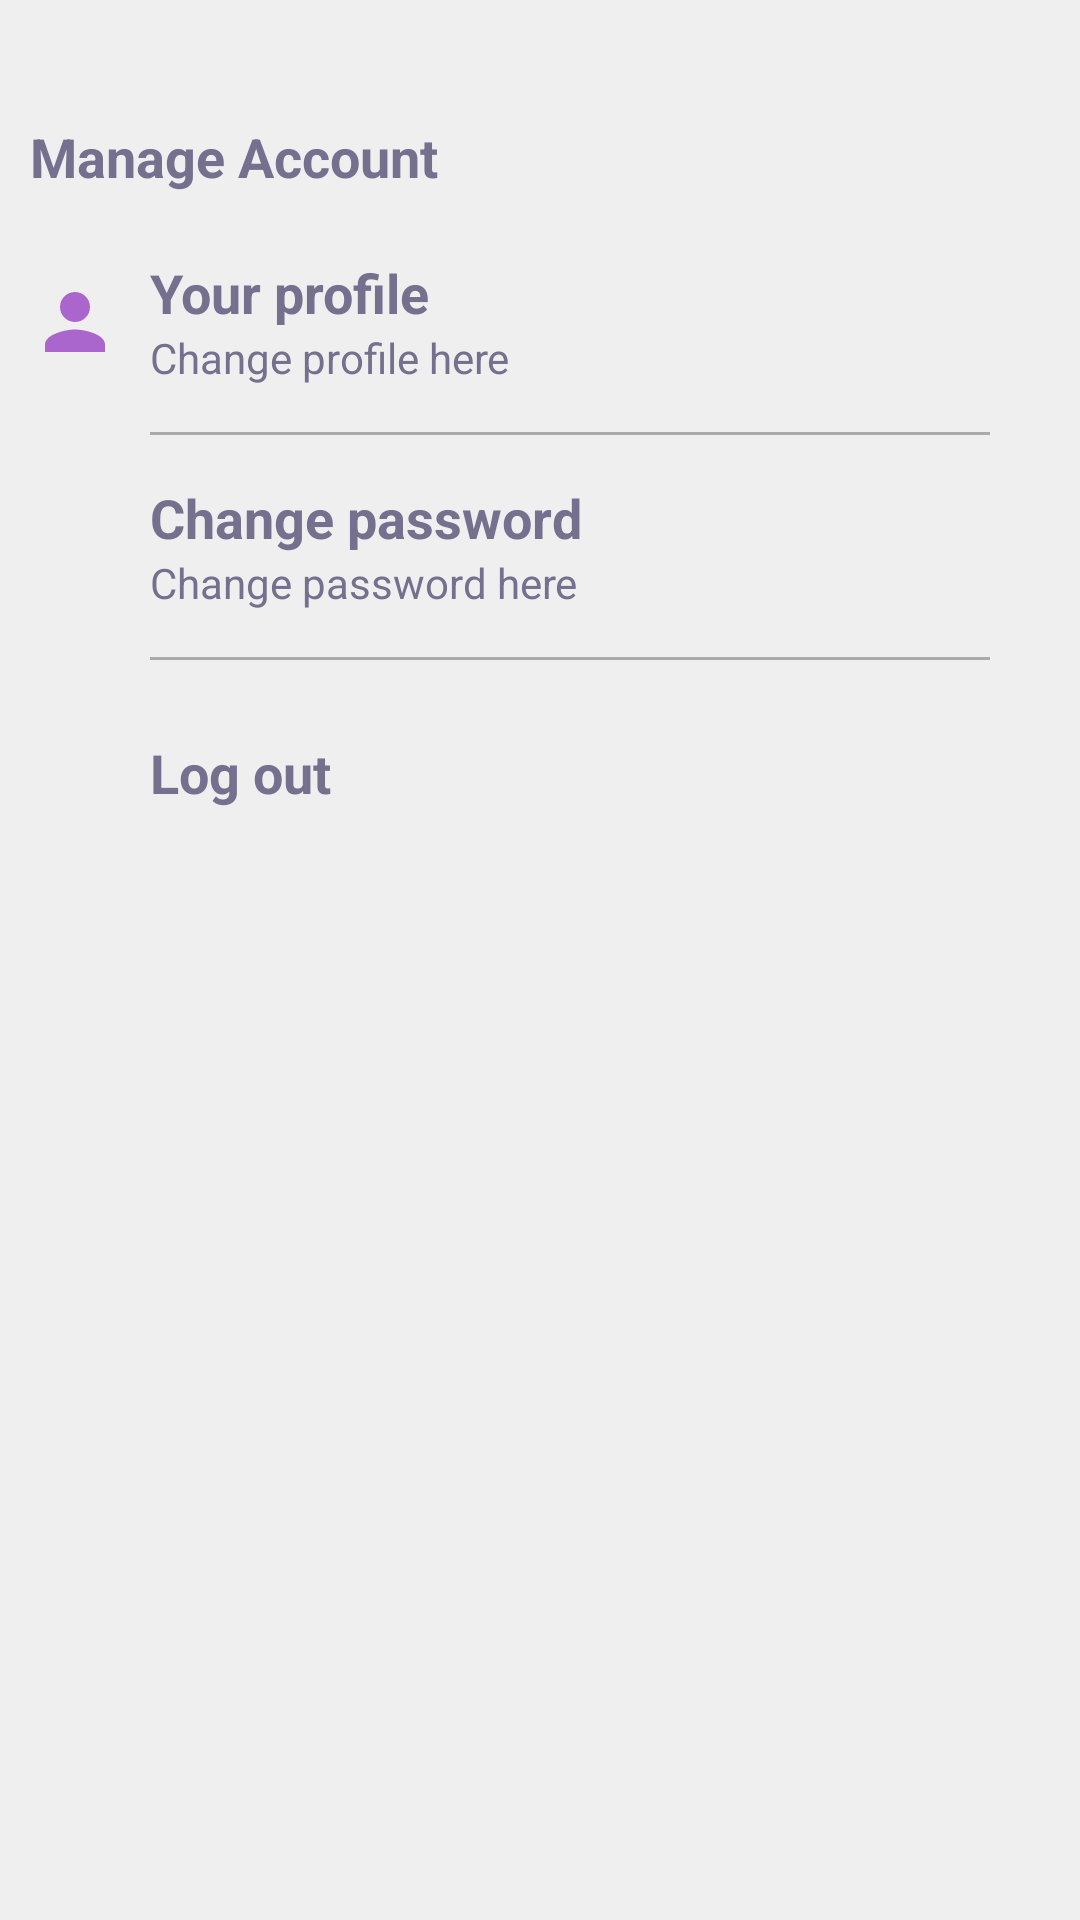

Where to tap for icons on this 1080 x 1920 app screen, as [x,y]:
account profile: [75,322]
